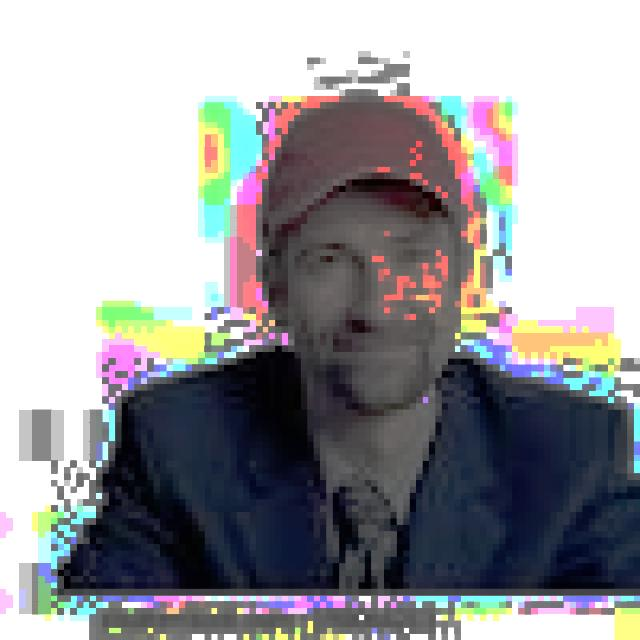TOPI: (250, 83, 467, 243)
